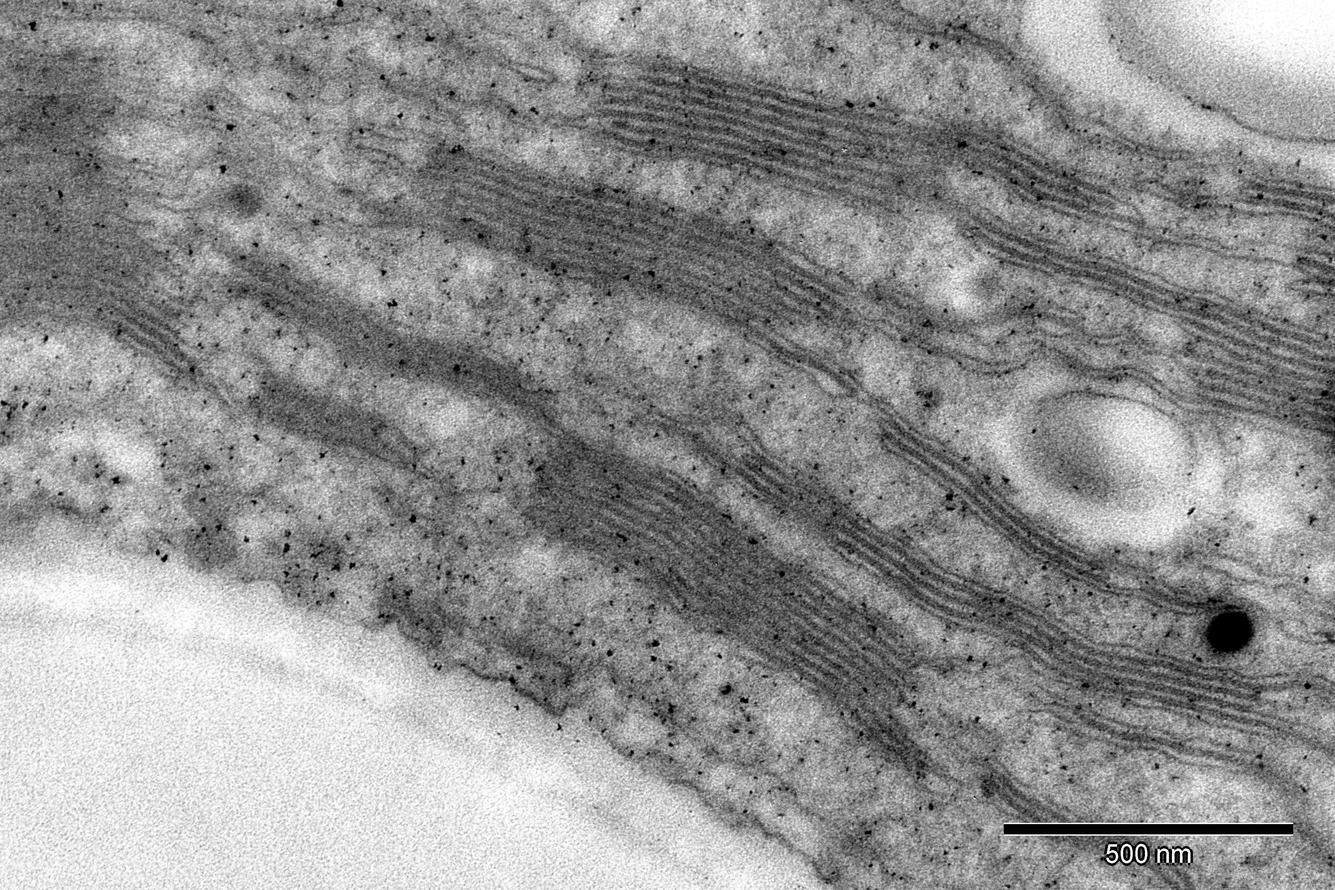granum: (720, 440, 1265, 739), (517, 423, 933, 769), (377, 136, 863, 361), (580, 45, 1122, 238), (954, 199, 1335, 452), (0, 35, 209, 386), (222, 232, 552, 428), (873, 409, 1116, 598), (976, 754, 1155, 869), (1229, 169, 1334, 300), (236, 368, 361, 453)
